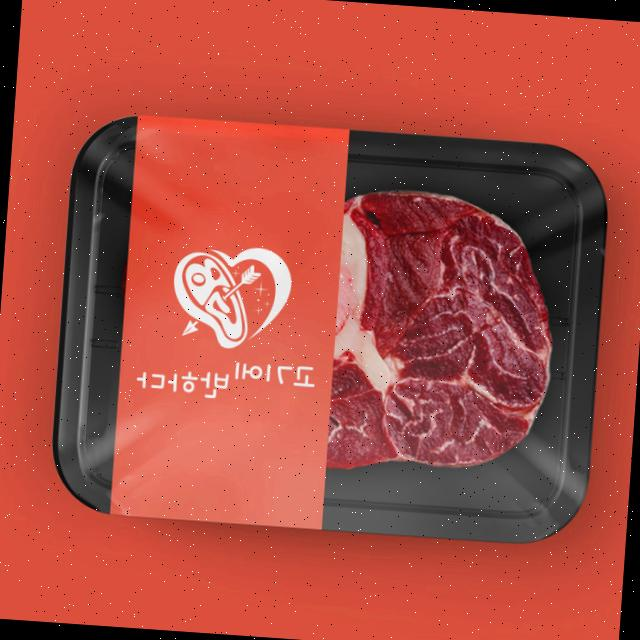meat: (31, 83, 635, 573)
